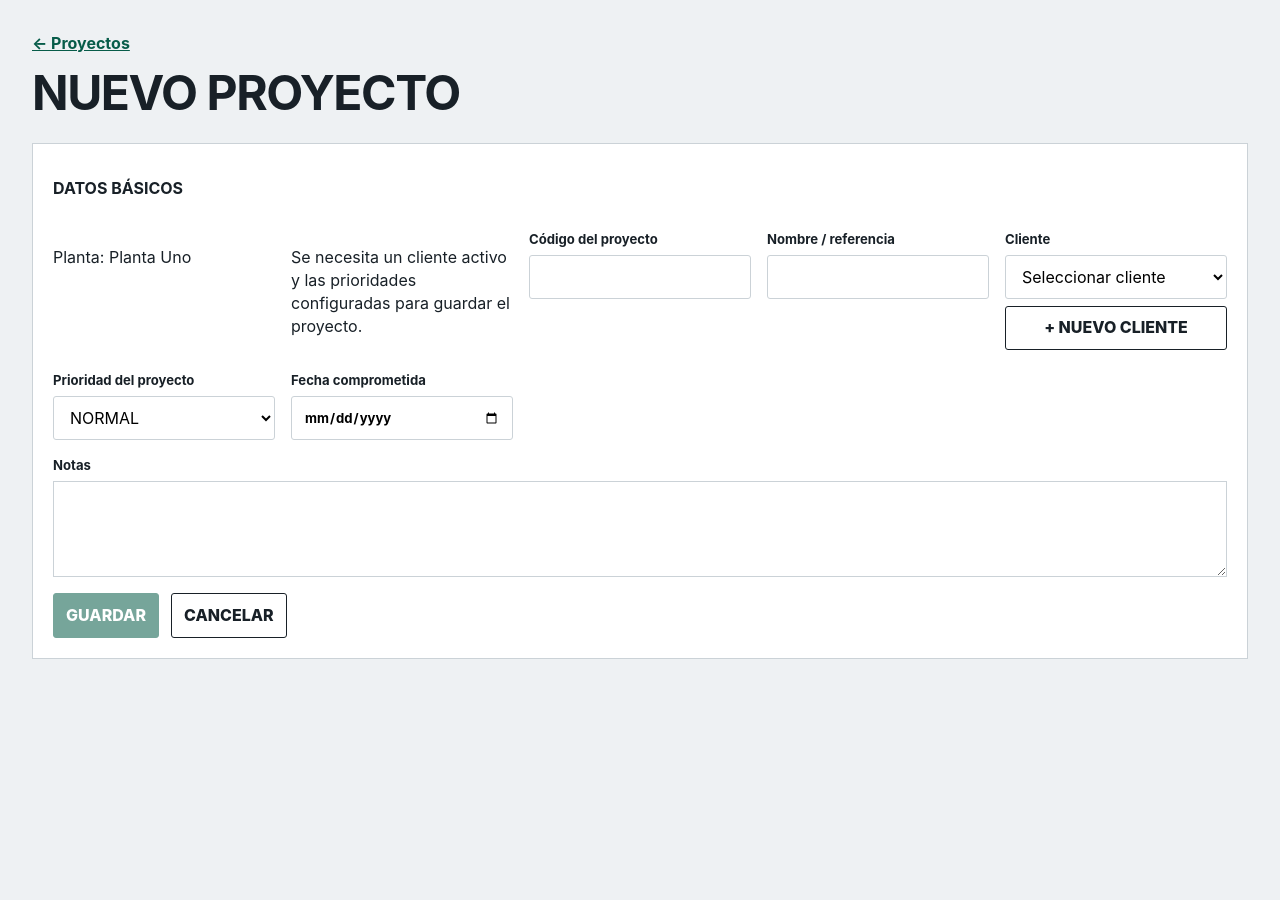
selector vacío permite abrir y cancelar el alta mínima
This screenshot has width=1280, height=900.
Click the button "+ NUEVO CLIENTE" at (1116, 328), box [1005, 306, 1227, 350]
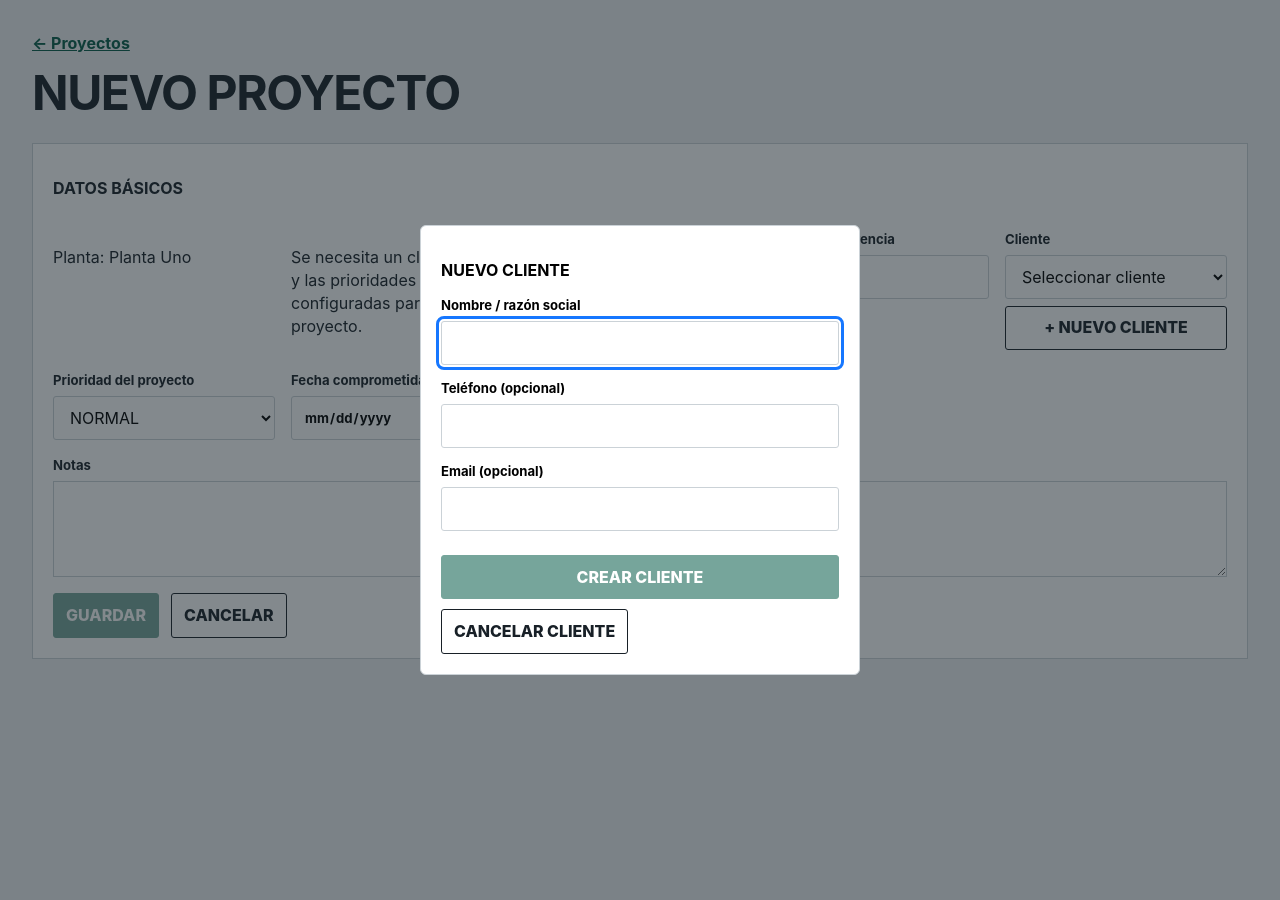
Expected: the dropdown labelled "Cliente" shows "Seleccionar cliente", [1005, 255, 1227, 299]
Click the button "CANCELAR CLIENTE" at (535, 632), box [441, 609, 628, 654]
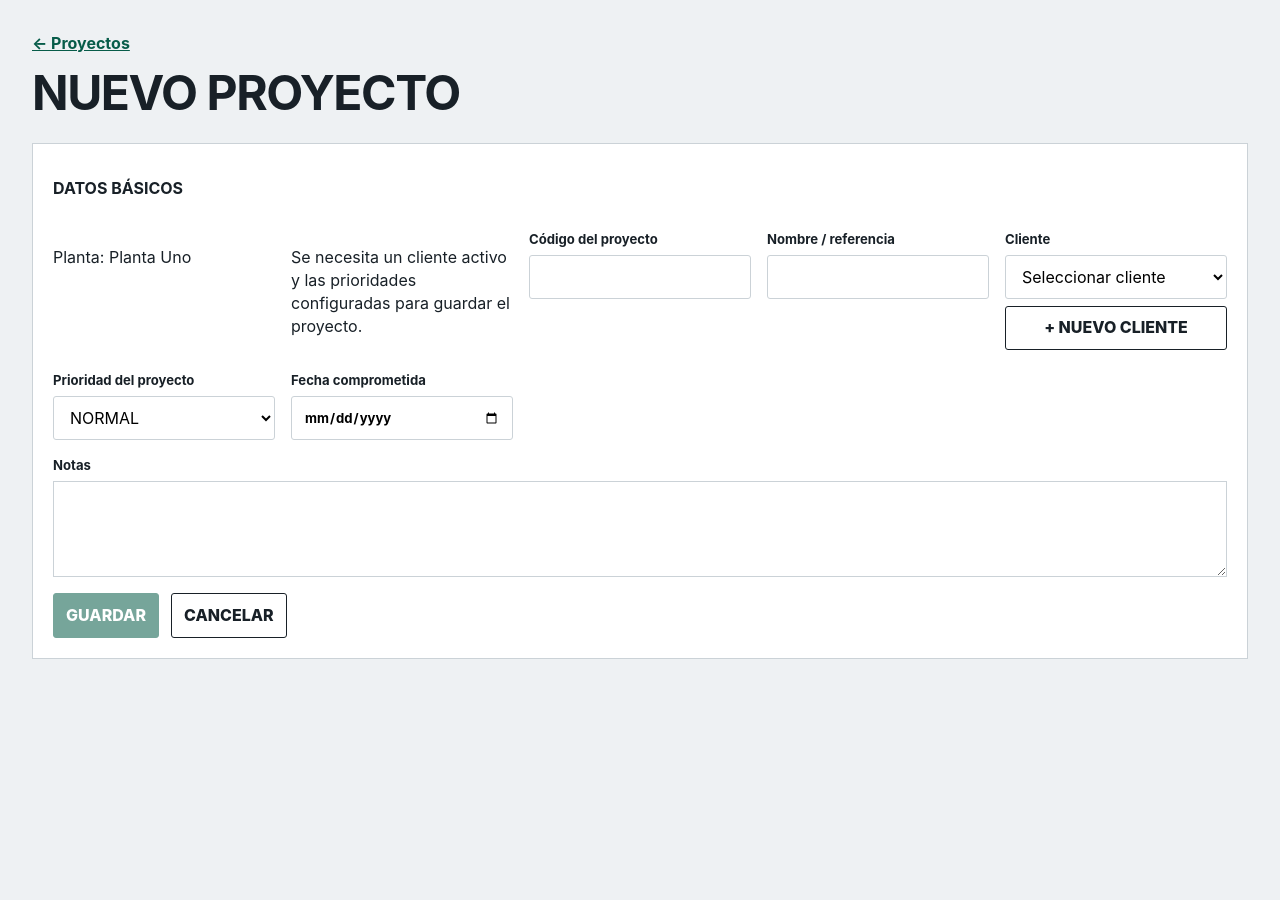
Expected: the dialog is gone
